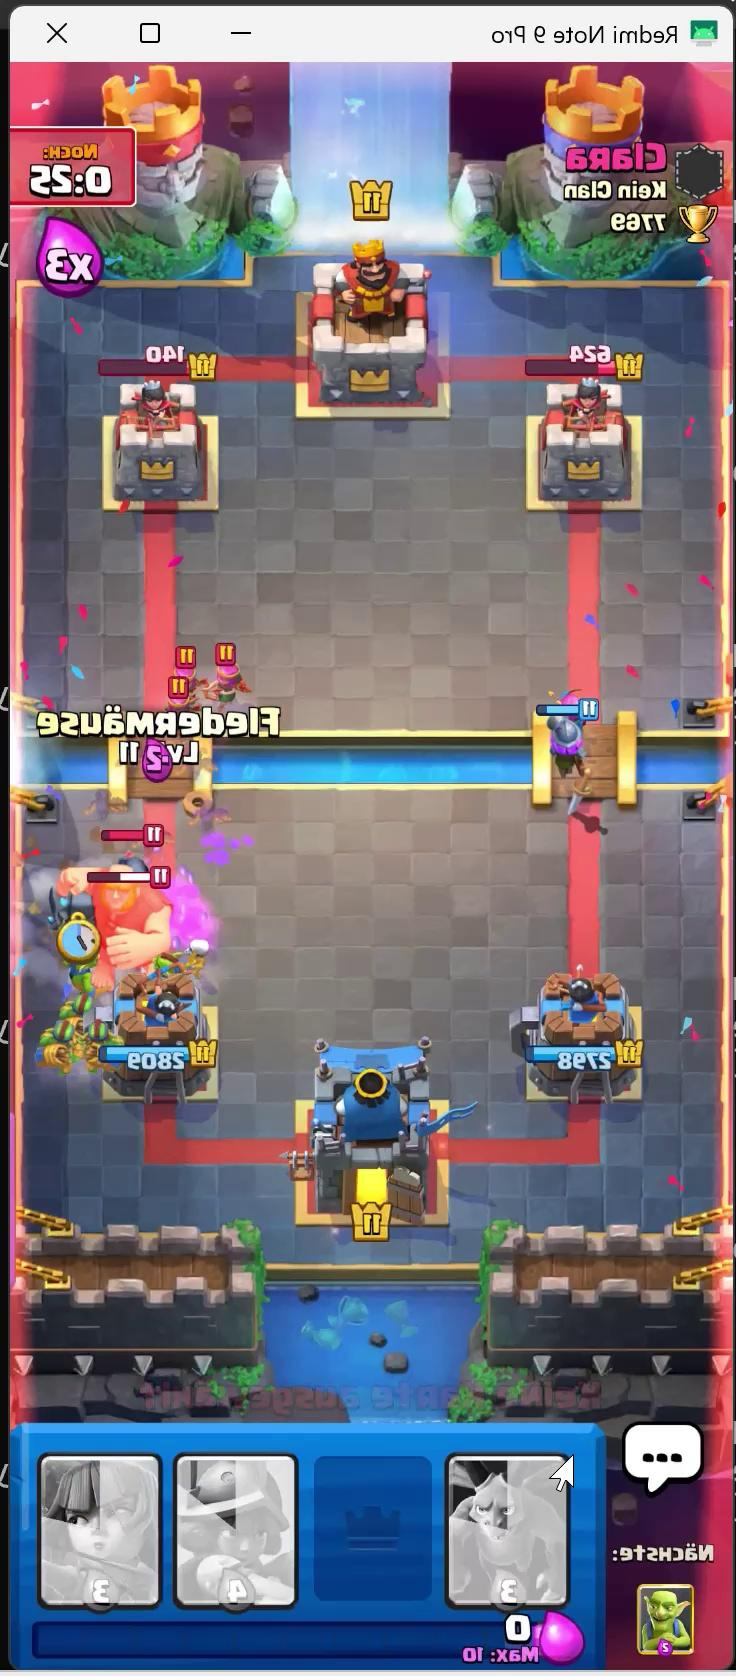archere: (553, 680, 588, 734), (157, 688, 192, 740), (212, 658, 238, 701), (173, 656, 204, 690)
geant: (74, 864, 186, 978)
gobelin_lances: (22, 1012, 88, 1070), (79, 1024, 113, 1075), (64, 988, 105, 1028)
mini_PEKKA: (101, 840, 160, 902), (50, 887, 97, 955)
mousquetaire: (548, 711, 588, 773)
squelette: (184, 934, 214, 972)
